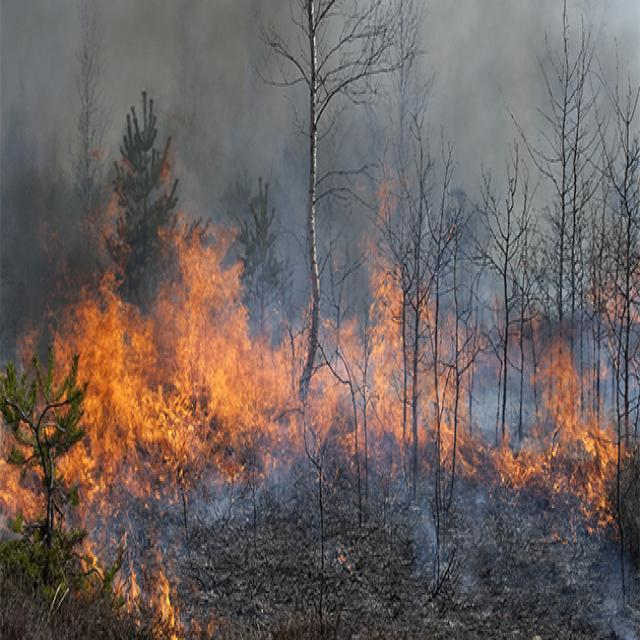Fire: (55, 247, 627, 632)
Smoke: (0, 0, 299, 218), (428, 0, 546, 195)
